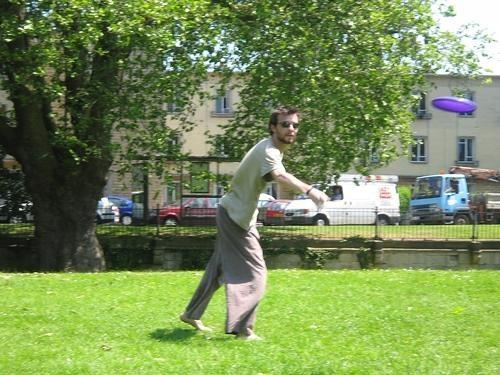car: (149, 196, 223, 225), (98, 197, 144, 225), (266, 200, 294, 225)
truck: (285, 174, 403, 226), (409, 169, 483, 225)
